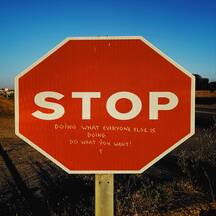Circle: (14, 35, 195, 172)
